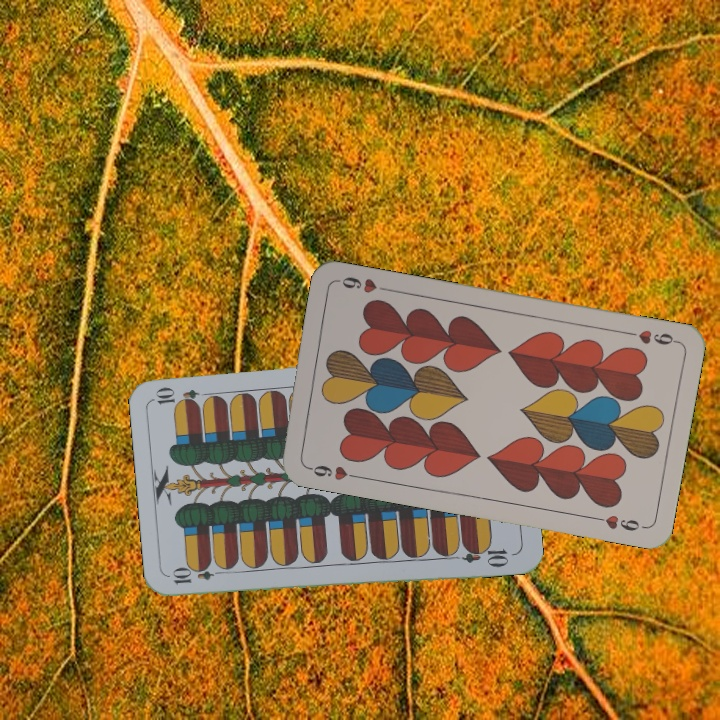E10: (168, 564, 228, 587)
H9: (621, 326, 680, 348), (302, 461, 361, 483)
